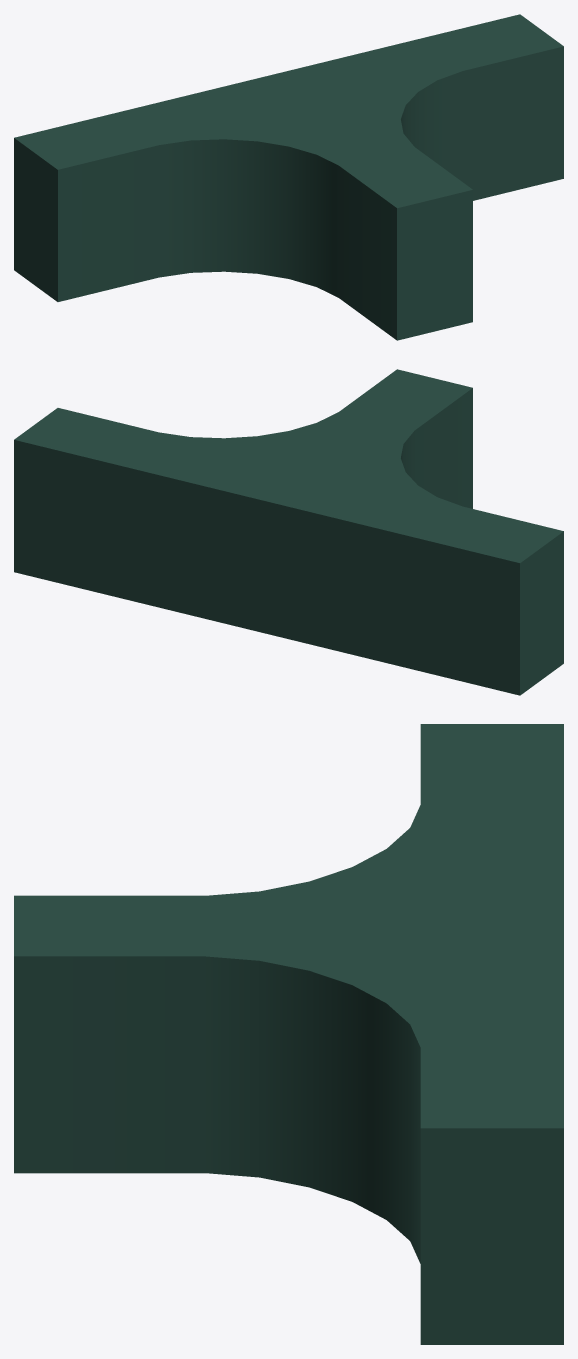
The model's file is W2_WallCorner_Round1C_Top.fbx.
The picture shows the model from 3 angles, top to bottom: view 1: azimuth 30°, elevation 25°; view 2: azimuth 150°, elevation 25°; view 3: azimuth 270°, elevation 25°; orthographic projection. The views are drawn at different scales.
Parts seen in each view (by area): view 1: W2_WallCorner_Round1C_Top.001; view 2: W2_WallCorner_Round1C_Top.001; view 3: W2_WallCorner_Round1C_Top.001.
Part boxes in pixels (bbox=[...]): W2_WallCorner_Round1C_Top.001: bbox=[14, 14, 563, 340]; W2_WallCorner_Round1C_Top.001: bbox=[14, 369, 563, 695]; W2_WallCorner_Round1C_Top.001: bbox=[14, 724, 563, 1344].
Size of the model in its own units: 2 by 0.5 by 1.15.
